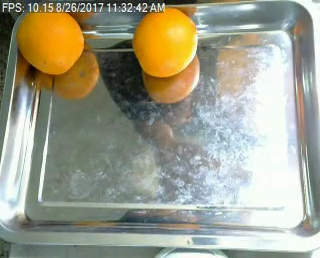Orange: (15, 7, 84, 75), (132, 7, 198, 76)
